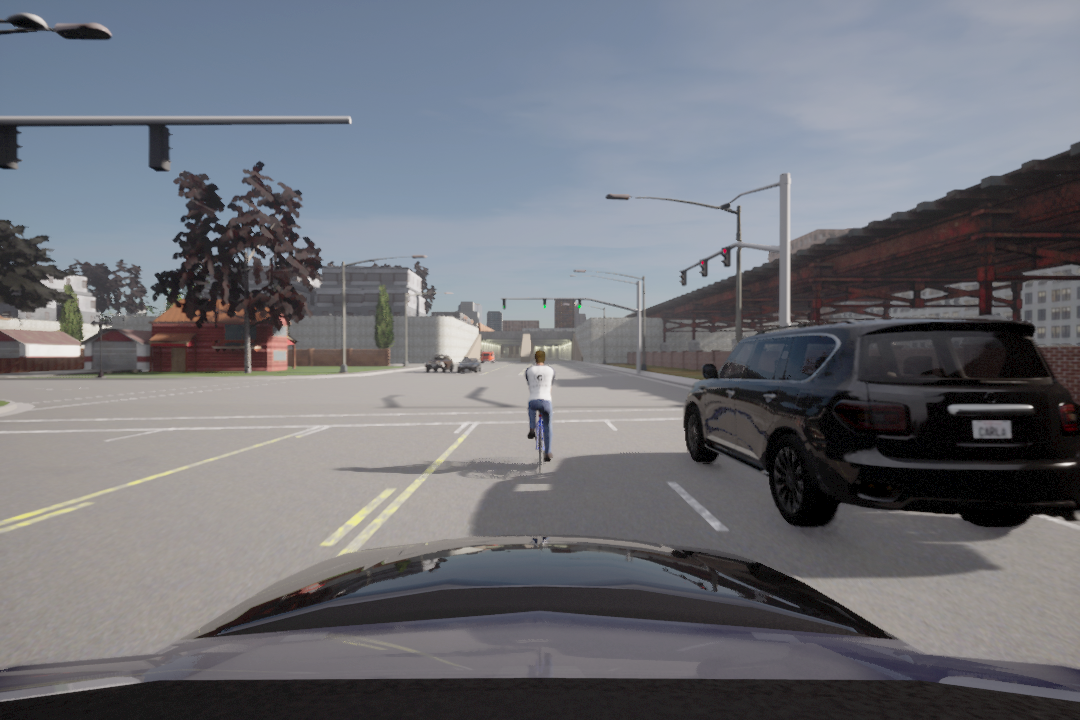TrafficLight: (720, 245, 731, 272), (698, 257, 707, 280), (679, 269, 688, 286)
